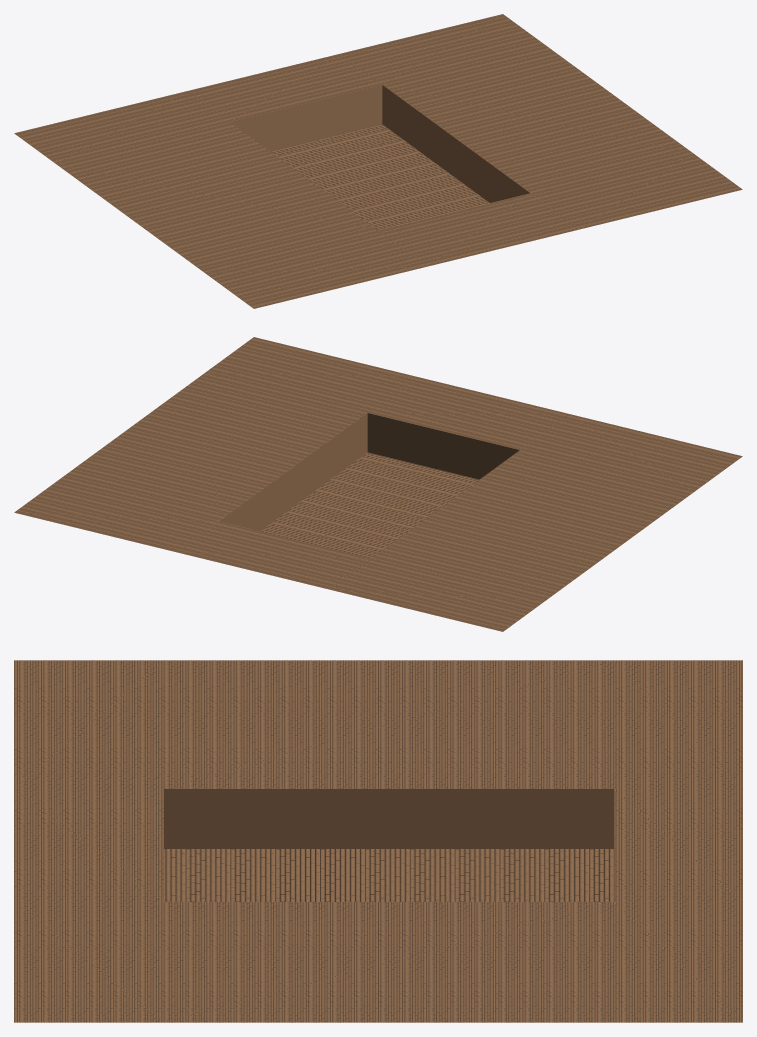
File: pool.fbx
The picture shows the model from 3 angles, top to bottom: view 1: azimuth 30°, elevation 25°; view 2: azimuth 150°, elevation 25°; view 3: azimuth 270°, elevation 25°; orthographic projection. The views are drawn at different scales.
Visible parts, largest first — view 1: pCube71; view 2: pCube71; view 3: pCube71.
Part boxes in pixels (x1,y1,x2,y2): pCube71: (14, 14, 742, 308); pCube71: (14, 337, 742, 631); pCube71: (14, 660, 742, 1022).
Bounding box in the file's own units: 229 × 17.6 × 194.
